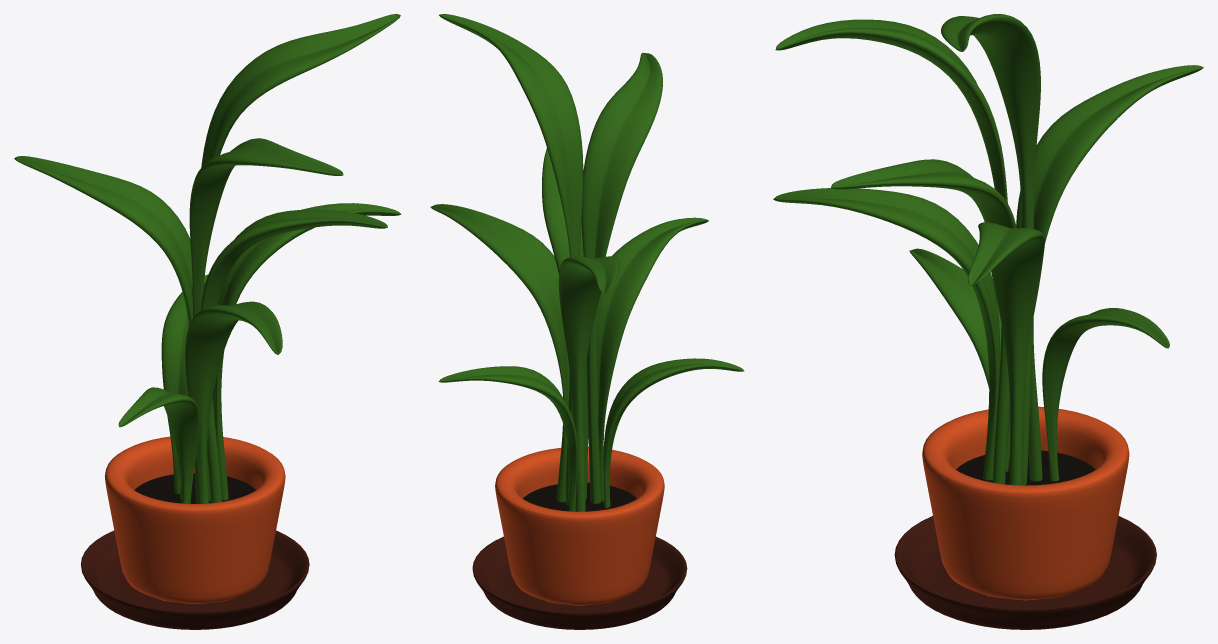
Rendered from tall_flower.obj.
3 views of the same model, side by side, from view 1: azimuth 30°, elevation 25°; view 2: azimuth 150°, elevation 25°; view 3: azimuth 270°, elevation 25° (orthographic). The views are drawn at different scales.
Visible parts, largest first — view 1: tall_flower; view 2: tall_flower; view 3: tall_flower.
Boxes of the visible parts, bbox=[...] form: tall_flower: bbox=[14, 14, 401, 629]; tall_flower: bbox=[430, 14, 744, 629]; tall_flower: bbox=[773, 14, 1203, 629].
Bounding box in the file's own units: 1.06 × 1.84 × 1.12.
